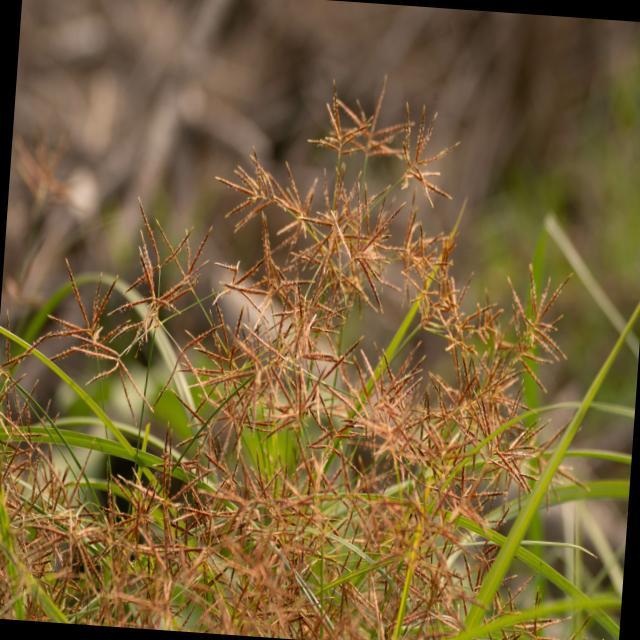cyperus: (0, 52, 581, 640), (191, 68, 613, 517)
